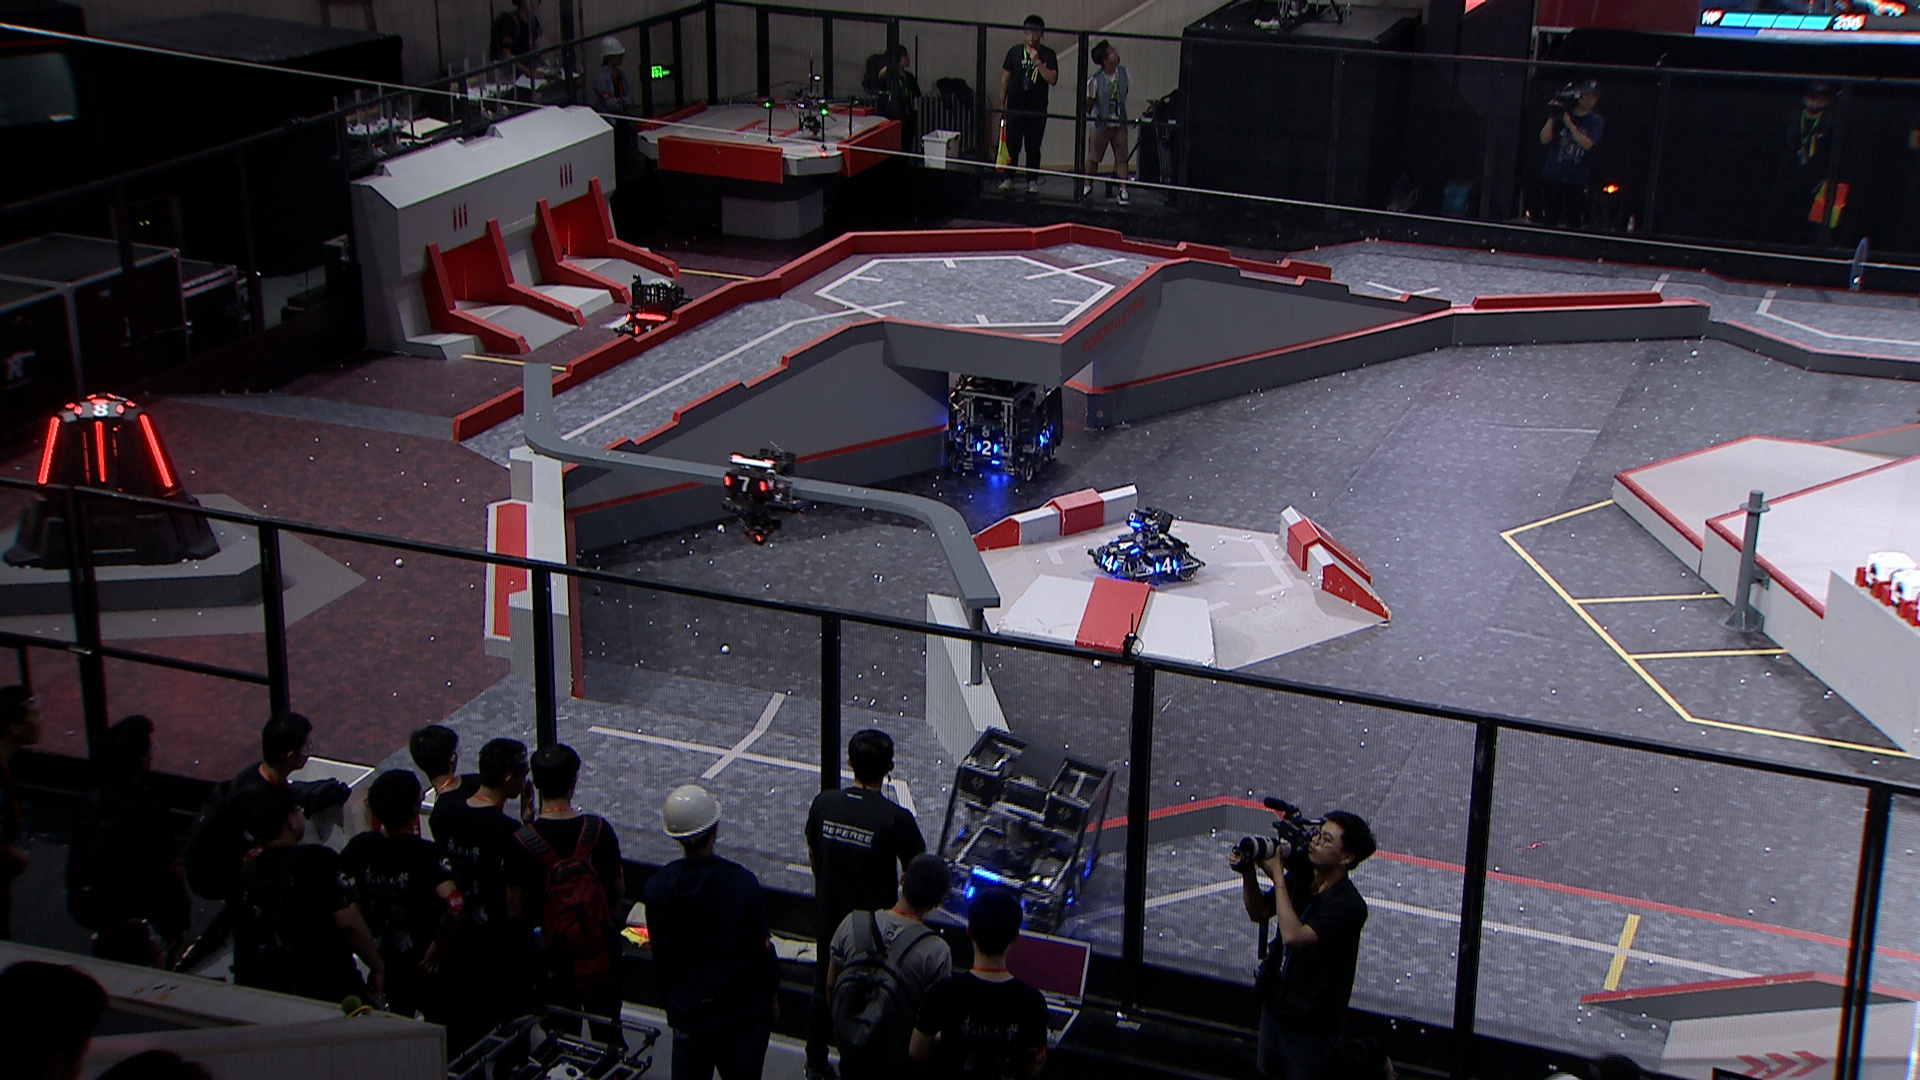armor: (136, 411, 175, 491), (34, 415, 62, 487), (92, 419, 109, 484), (1063, 869, 1091, 909), (721, 475, 769, 495), (73, 404, 127, 419), (1150, 556, 1182, 575), (972, 439, 1002, 456), (1116, 537, 1139, 555), (1098, 553, 1120, 572), (1035, 425, 1054, 447), (629, 323, 655, 338)
base: (3, 389, 222, 570)
car: (927, 727, 1116, 932), (945, 363, 1068, 487), (1087, 505, 1207, 588), (613, 276, 712, 356)
watcher: (713, 440, 803, 547)
